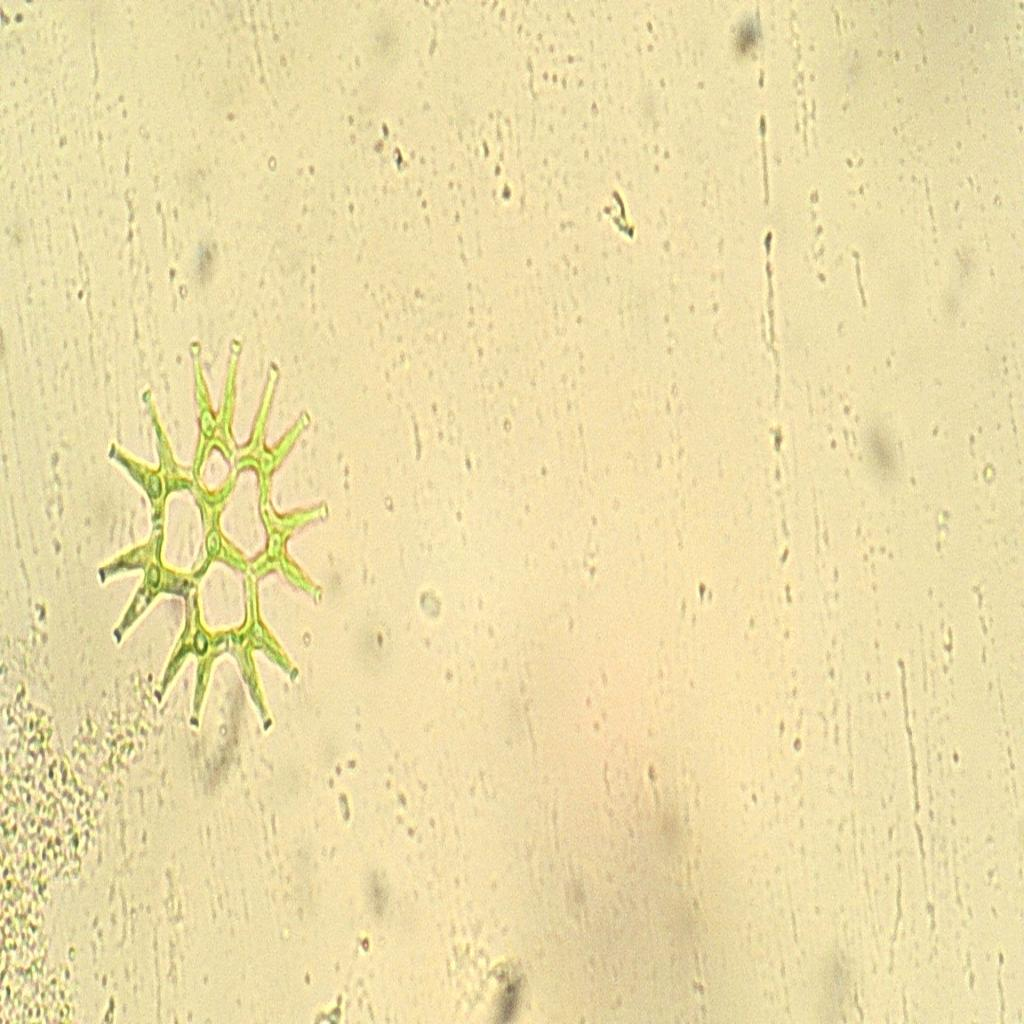Pediastrum_75T: (89, 330, 336, 748)
